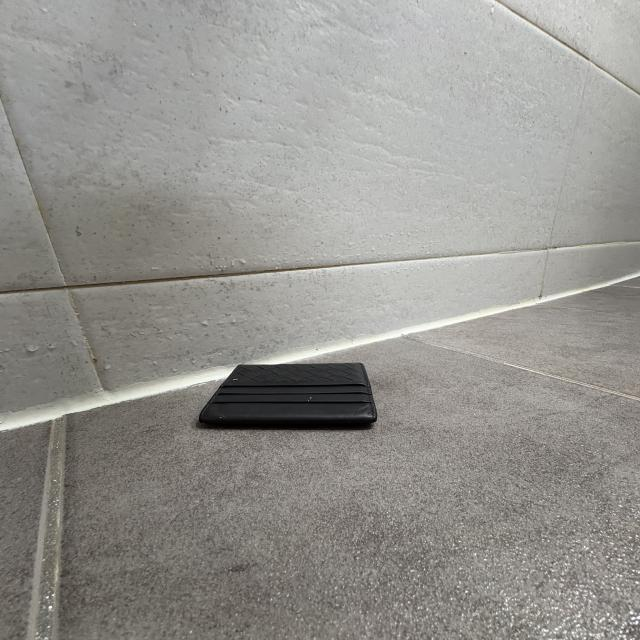wallet: (192, 362, 378, 431)
